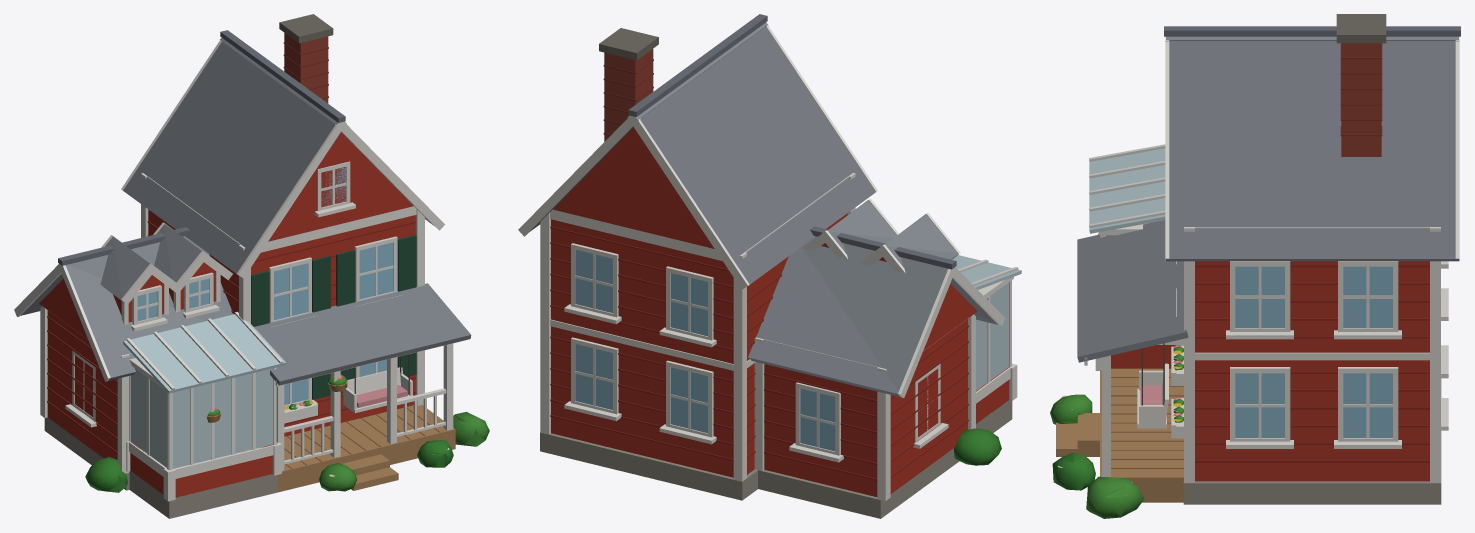
Rendered from farmhouse-2.glb.
The picture shows the model from 3 angles, left to right: view 1: azimuth 30°, elevation 25°; view 2: azimuth 150°, elevation 25°; view 3: azimuth 270°, elevation 25°; orthographic projection. The views are drawn at different scales.
Parts seen in each view (by area): view 1: building-farmhouse-2, building-farmhouse-2-far; view 2: building-farmhouse-2, building-farmhouse-2-far; view 3: building-farmhouse-2, building-farmhouse-2-far.
Boxes of the visible parts, x1=… form: building-farmhouse-2: x1=14, y1=14, x2=489, y2=518; building-farmhouse-2-far: x1=72, y1=166, x2=487, y2=492; building-farmhouse-2: x1=518, y1=14, x2=1021, y2=518; building-farmhouse-2-far: x1=571, y1=246, x2=999, y2=465; building-farmhouse-2: x1=1050, y1=14, x2=1460, y2=518; building-farmhouse-2-far: x1=1050, y1=262, x2=1397, y2=516.
Bounding box in the file's own units: 7.86 × 7.6 × 6.28.
